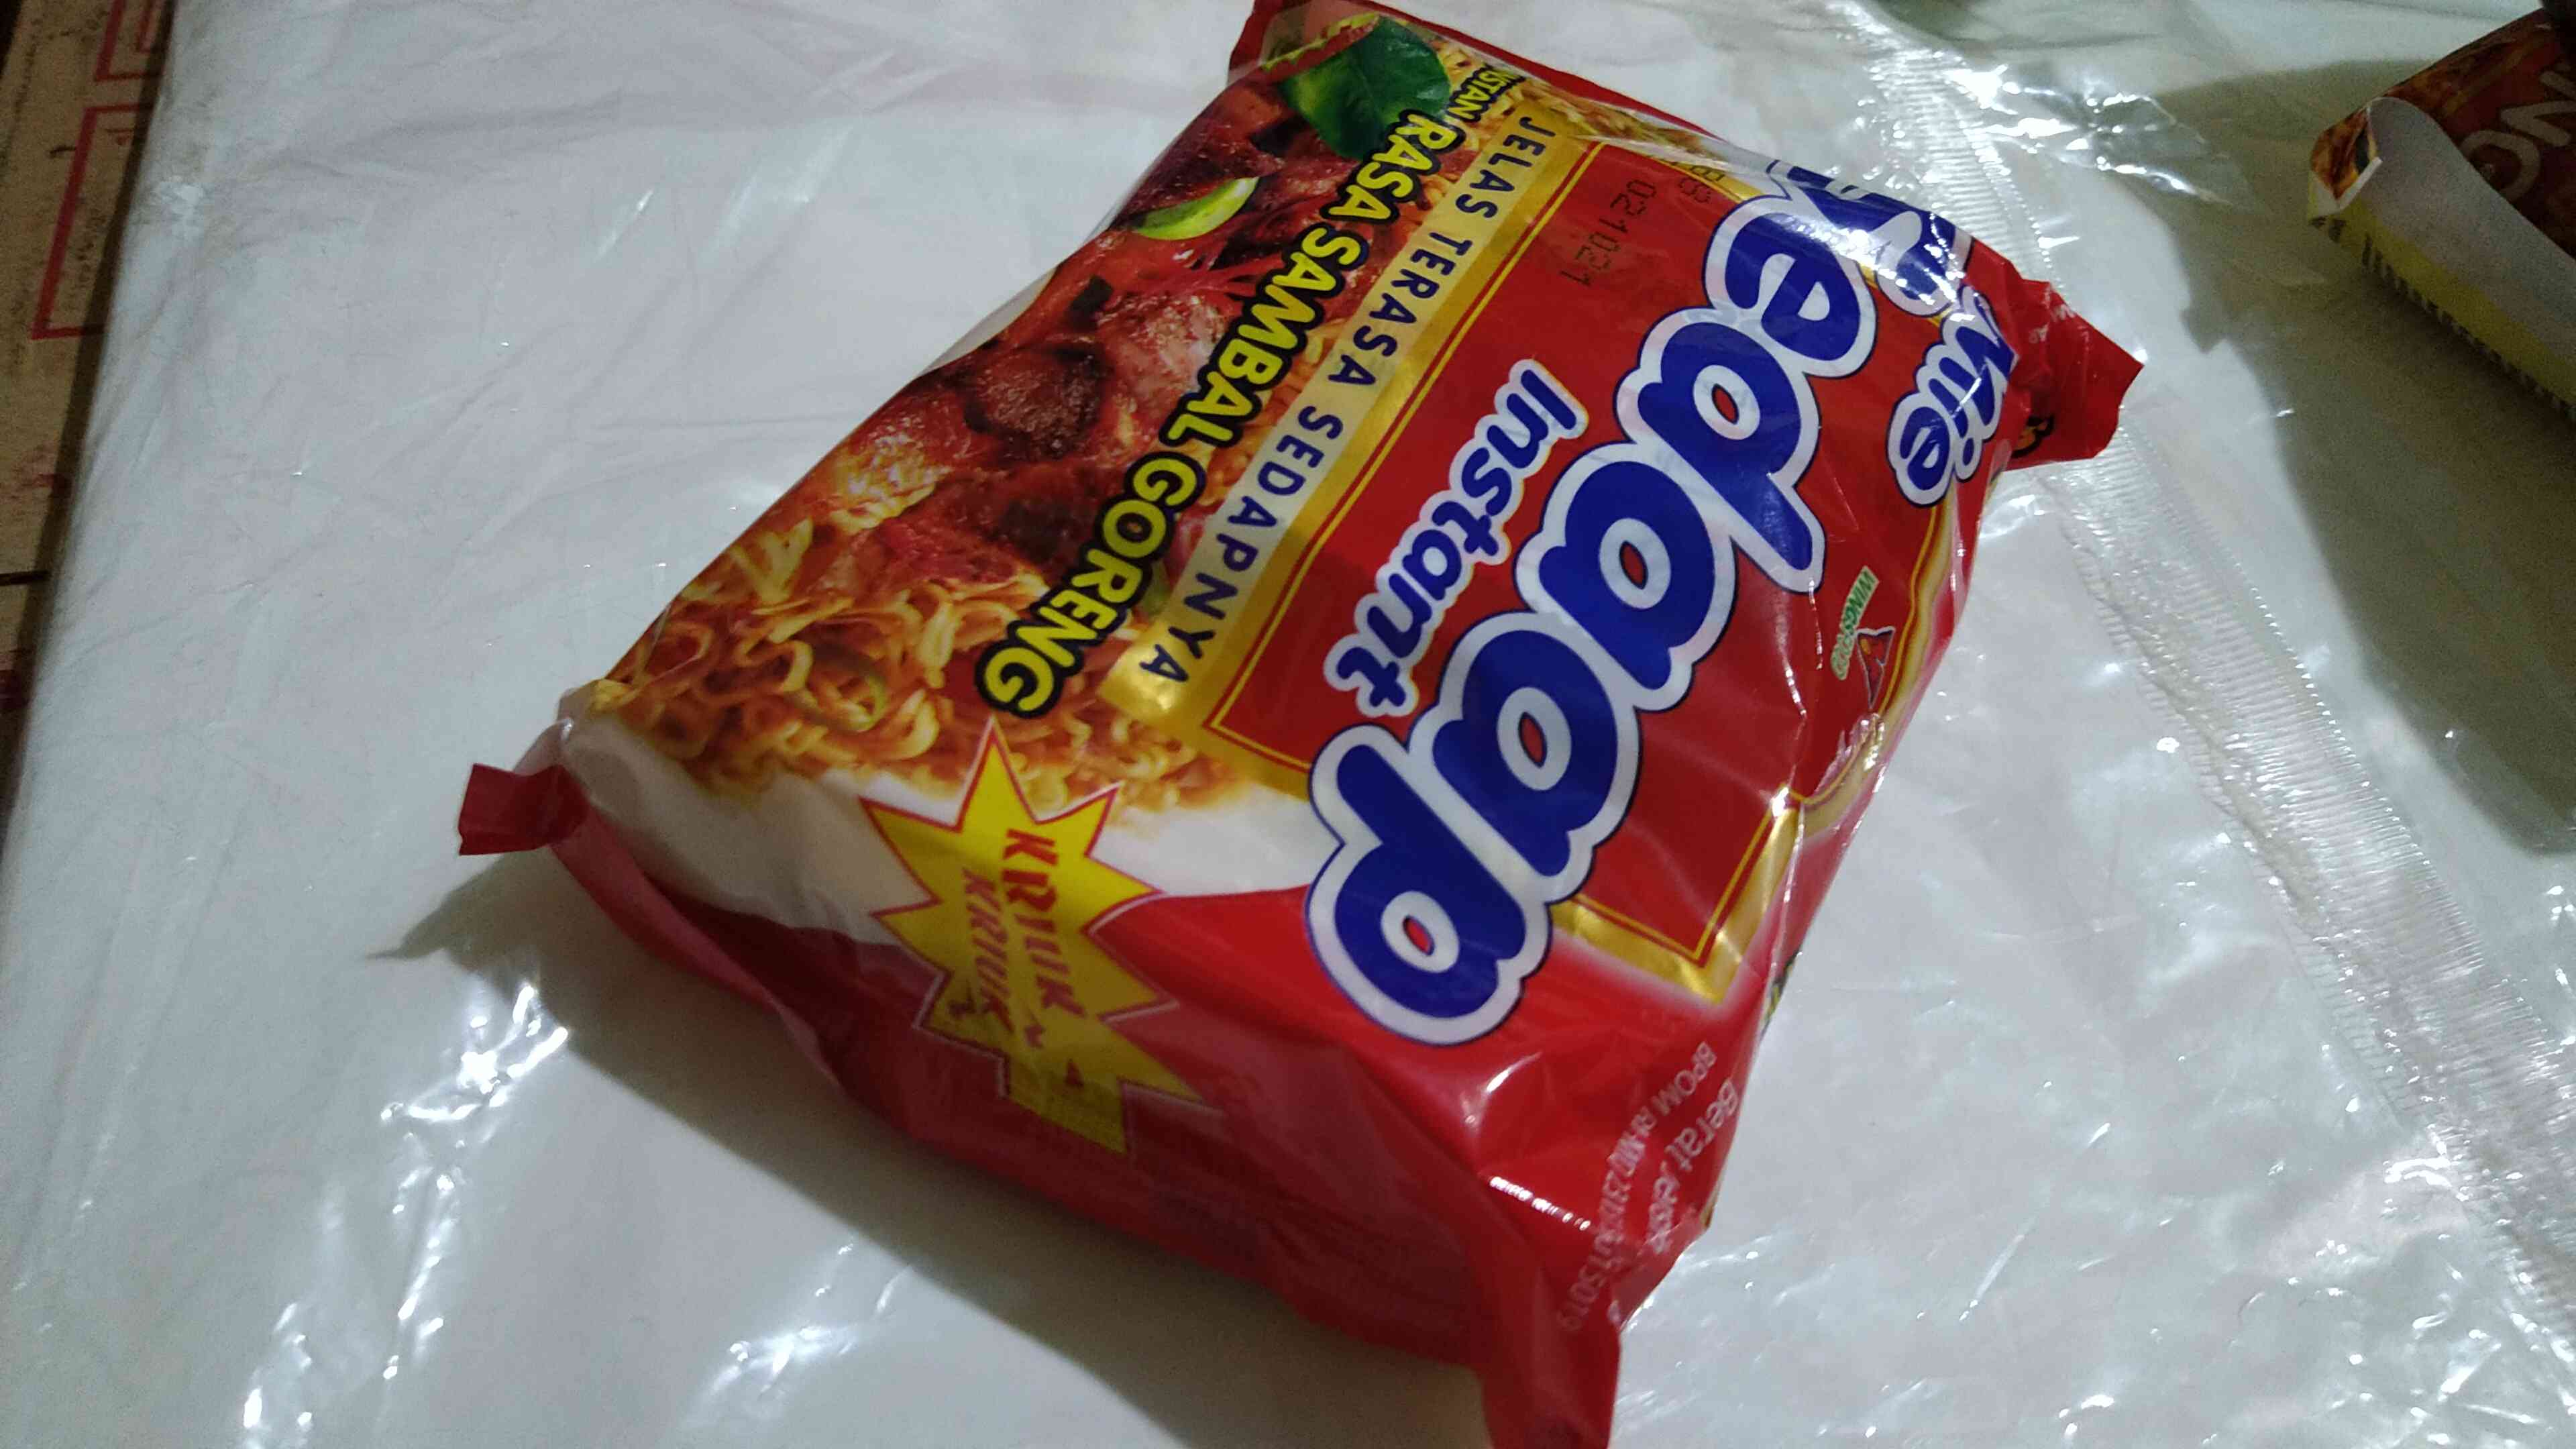sedaap sambal goreng: (460, 16, 2059, 1325)
